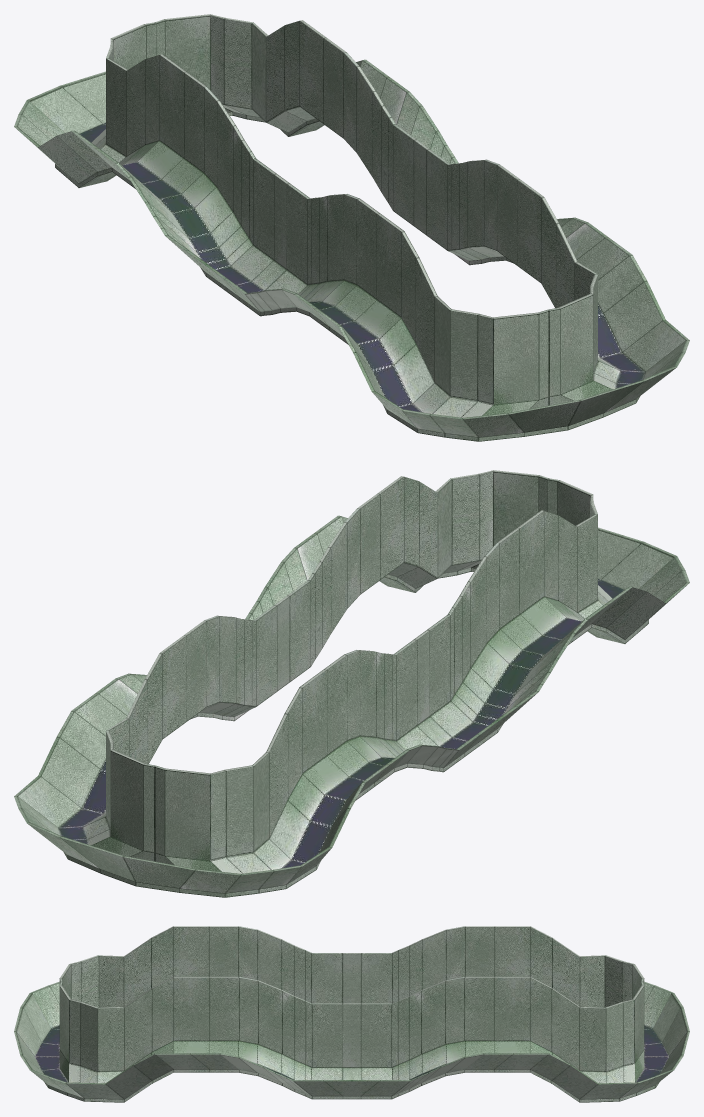
File: mapa01.obj
3 renders of one model, top to bottom at view 1: azimuth 30°, elevation 25°; view 2: azimuth 150°, elevation 25°; view 3: azimuth 270°, elevation 25°, orthographic. The views are drawn at different scales.
Visible parts, largest first — view 1: Cube; view 2: Cube; view 3: Cube.
Boxes of the visible parts, box(x1,y1,x2,y2) form: Cube: box(14, 14, 689, 441); Cube: box(14, 470, 689, 897); Cube: box(14, 926, 689, 1102).
Size of the model in its own units: 439 by 209 by 1184.
1 material, 1 textured.
